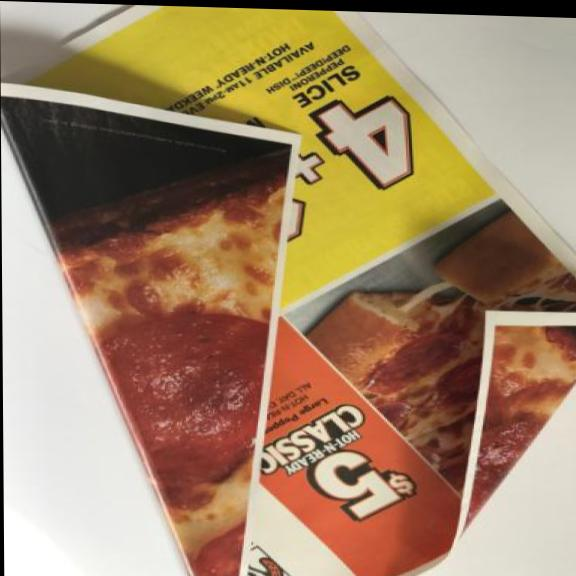Kertas: (2, 0, 576, 576)
